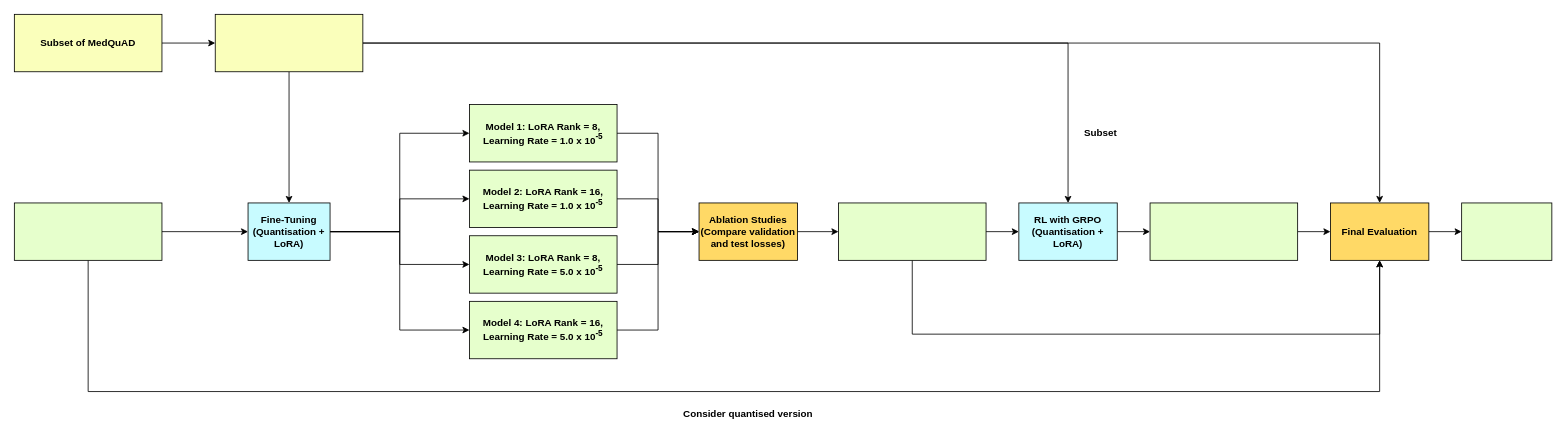
Some shapes in this 1566 by 441 pixel diagram are drawn without their labels. Each missing label, with the centre of its shape:
Best Fine-Tuned Model: pixel 912 231
Final Model: pixel 1506 231
GRPO Model: pixel 1223 231
HuggingFaceTB/SmolLM2-1.7B-Instruct: pixel 88 231
Processed Dataset: pixel 288 43
